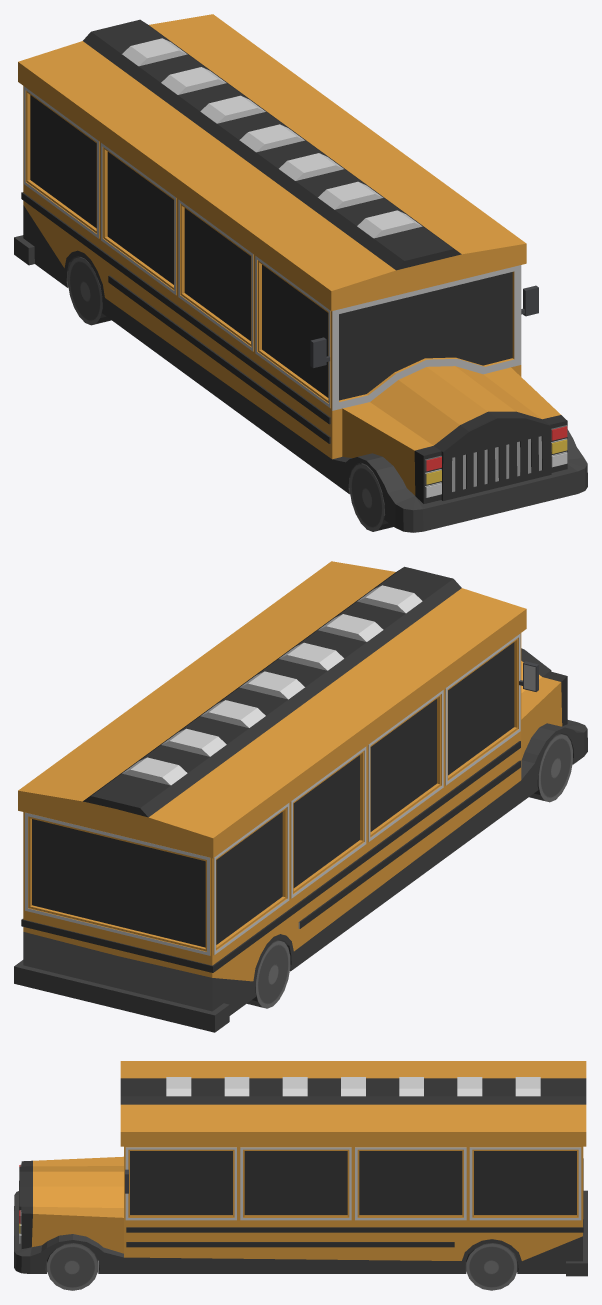
The model's file is bus01_color02.fbx.
3 renders of one model, top to bottom at view 1: azimuth 30°, elevation 25°; view 2: azimuth 150°, elevation 25°; view 3: azimuth 270°, elevation 25°, orthographic. The views are drawn at different scales.
Parts seen in each view (by area): view 1: Cube.509, Cylinder.024, Cylinder.021; view 2: Cube.509, Cylinder.024, Cylinder.021; view 3: Cube.509, Cylinder.023, Cylinder.022.
Boxes of the visible parts, left/top/right/bottom form: Cube.509: left=14, top=14, right=587, bottom=532; Cylinder.024: left=349, top=463, right=393, bottom=531; Cylinder.021: left=68, top=257, right=111, bottom=325; Cube.509: left=14, top=561, right=587, bottom=1032; Cylinder.024: left=529, top=733, right=572, bottom=802; Cylinder.021: left=247, top=940, right=290, bottom=1008; Cube.509: left=14, top=1061, right=587, bottom=1276; Cylinder.023: left=466, top=1243, right=517, bottom=1290; Cylinder.022: left=47, top=1243, right=97, bottom=1290.
Bounding box in the file's own units: 406 × 402 × 1202.
